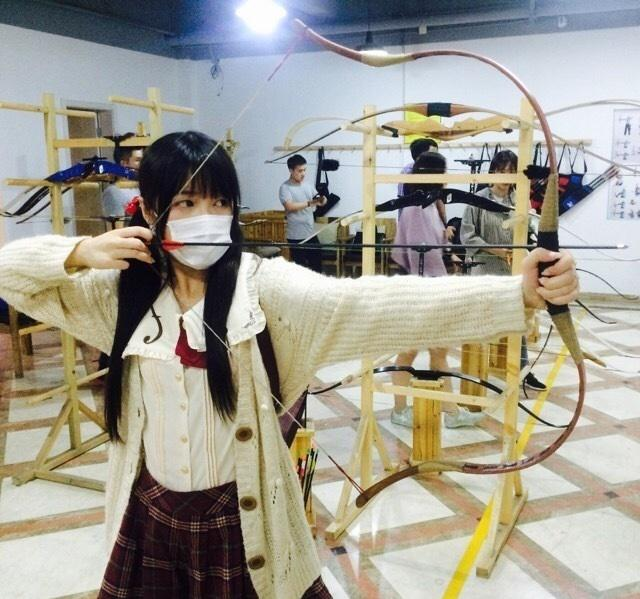NONE: (120, 147, 146, 180), (497, 160, 518, 189), (293, 162, 308, 182)
OK: (167, 182, 236, 265)
